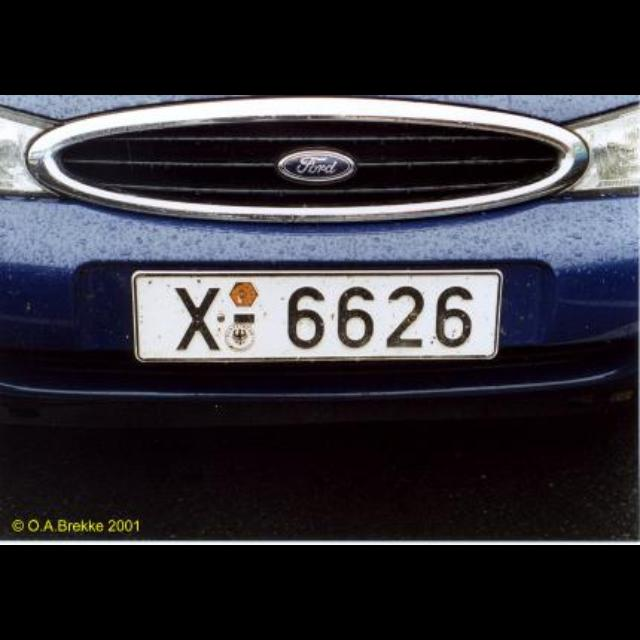d_license_plate: (135, 272, 498, 358)
